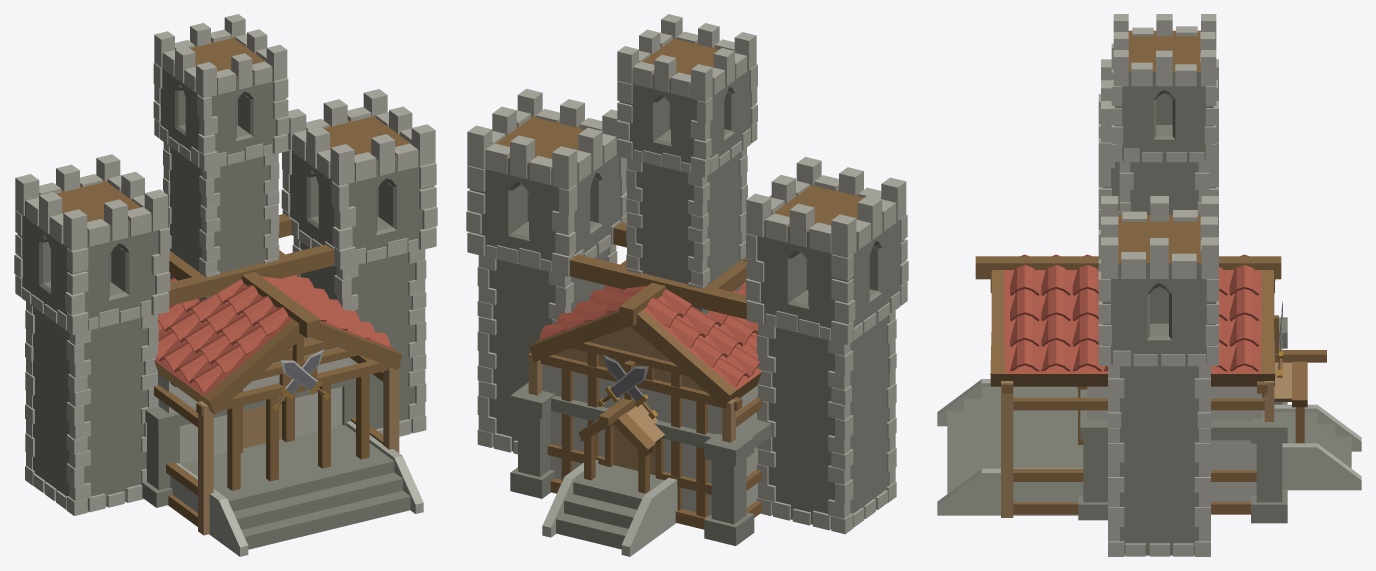
Rendered from Barracks_SecondAge_Level3.glb.
3 renders of one model, left to right at view 1: azimuth 30°, elevation 25°; view 2: azimuth 150°, elevation 25°; view 3: azimuth 270°, elevation 25°, orthographic. The views are drawn at different scales.
Visible parts, largest first — view 1: Barracks_SecondAge_Level3; view 2: Barracks_SecondAge_Level3; view 3: Barracks_SecondAge_Level3.
Part boxes in pixels (x1=…): Barracks_SecondAge_Level3: x1=14, y1=14, x2=437, y2=556; Barracks_SecondAge_Level3: x1=466, y1=14, x2=908, y2=556; Barracks_SecondAge_Level3: x1=937, y1=14, x2=1361, y2=556.
Bounding box in the file's own units: 1.71 × 1.85 × 1.64.
1 material, 1 textured.
